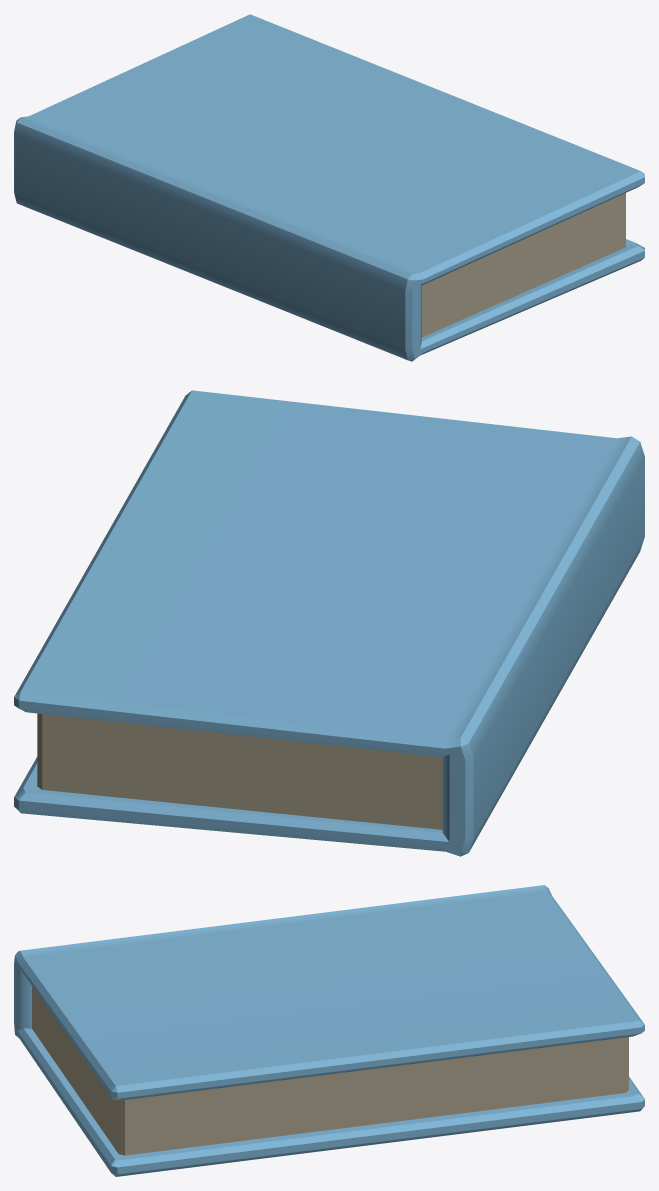
The model's file is Journal.fbx.
3 views of the same model, one above another, from view 1: azimuth 30°, elevation 25°; view 2: azimuth 150°, elevation 25°; view 3: azimuth 270°, elevation 25° (orthographic). The views are drawn at different scales.
Visible parts, largest first — view 1: pasted__pCube1; view 2: pasted__pCube1; view 3: pasted__pCube1.
Boxes of the visible parts, x1,y1,x2,y2 form: pasted__pCube1: (14,14,644,361); pasted__pCube1: (14,390,644,856); pasted__pCube1: (14,885,644,1176).
Bounding box in the file's own units: 0.4344 × 0.0882 × 0.5559.
